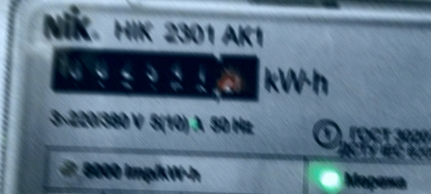0: (65, 53, 85, 80), (93, 52, 109, 80)
1: (193, 55, 208, 83)
2: (117, 53, 135, 79)
4: (169, 55, 184, 79)
5: (142, 53, 162, 82)
6: (220, 74, 236, 93)
screen: (38, 30, 274, 114)
